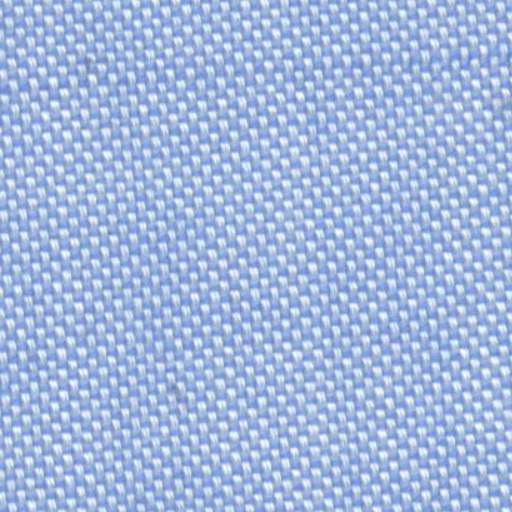TuoSha: (4, 35, 495, 113)
